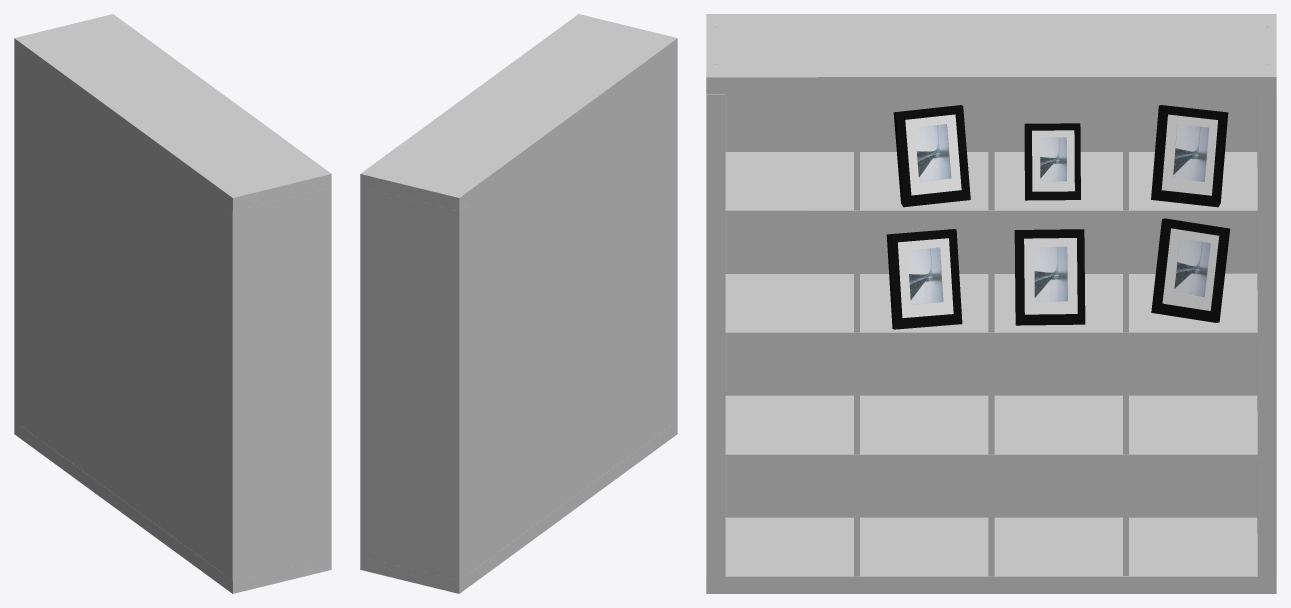
Rendered from bookshelf.glb.
The picture shows the model from 3 angles, left to right: view 1: azimuth 30°, elevation 25°; view 2: azimuth 150°, elevation 25°; view 3: azimuth 270°, elevation 25°; orthographic projection. The views are drawn at different scales.
Visible parts, largest first — view 1: bookcase; view 2: bookcase; view 3: bookcase, Cube, Cube.006, Cube.002, Cube.001, Cube.003, Cube.004.
Boxes of the visible parts, x1,y1,x2,y2 form: bookcase: (14, 14, 331, 593); bookcase: (360, 14, 677, 593); bookcase: (706, 14, 1276, 593); Cube: (886, 229, 962, 329); Cube.006: (893, 105, 970, 207); Cube.002: (1151, 105, 1228, 207); Cube.001: (1014, 229, 1085, 325); Cube.003: (1151, 218, 1230, 322); Cube.004: (1024, 123, 1080, 200).
Bounding box in the file's own units: 0.3904 × 1.49 × 1.49.
4 materials, 1 textured.
